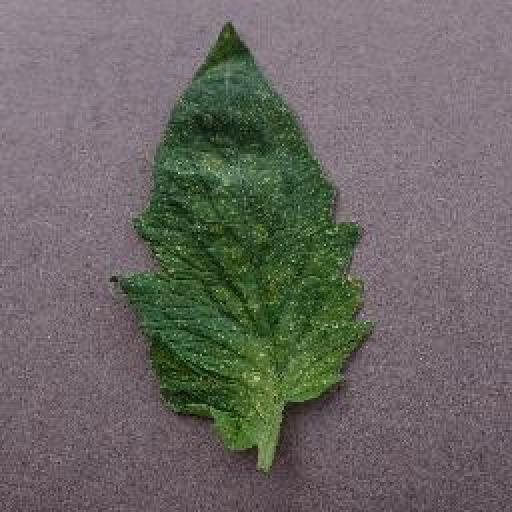disease_tomato: (114, 17, 370, 451)
